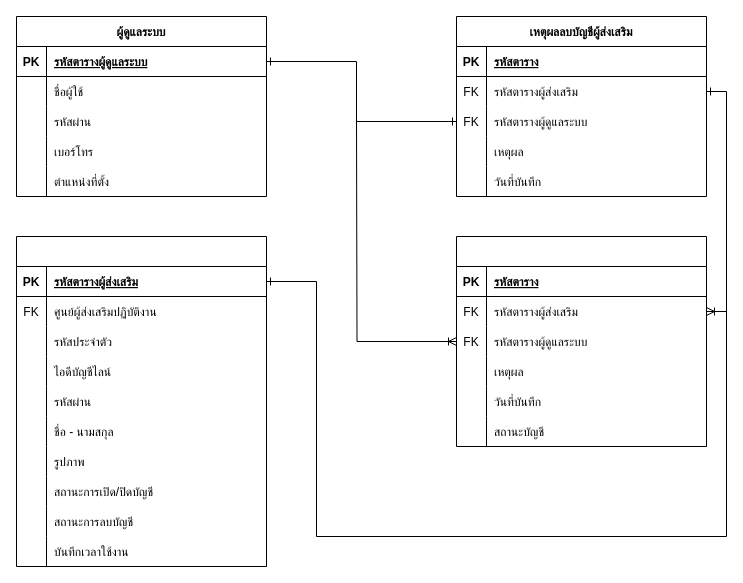
This 743x583 diagram has some shape labels left out. Each missing label, with the box of its shape:
บัญชีผู้ส่งเสริม: (16, 236, 266, 566)
เหตุผลปิด/เปิดบัญชีผู้ส่งเสริม: (456, 236, 706, 446)
